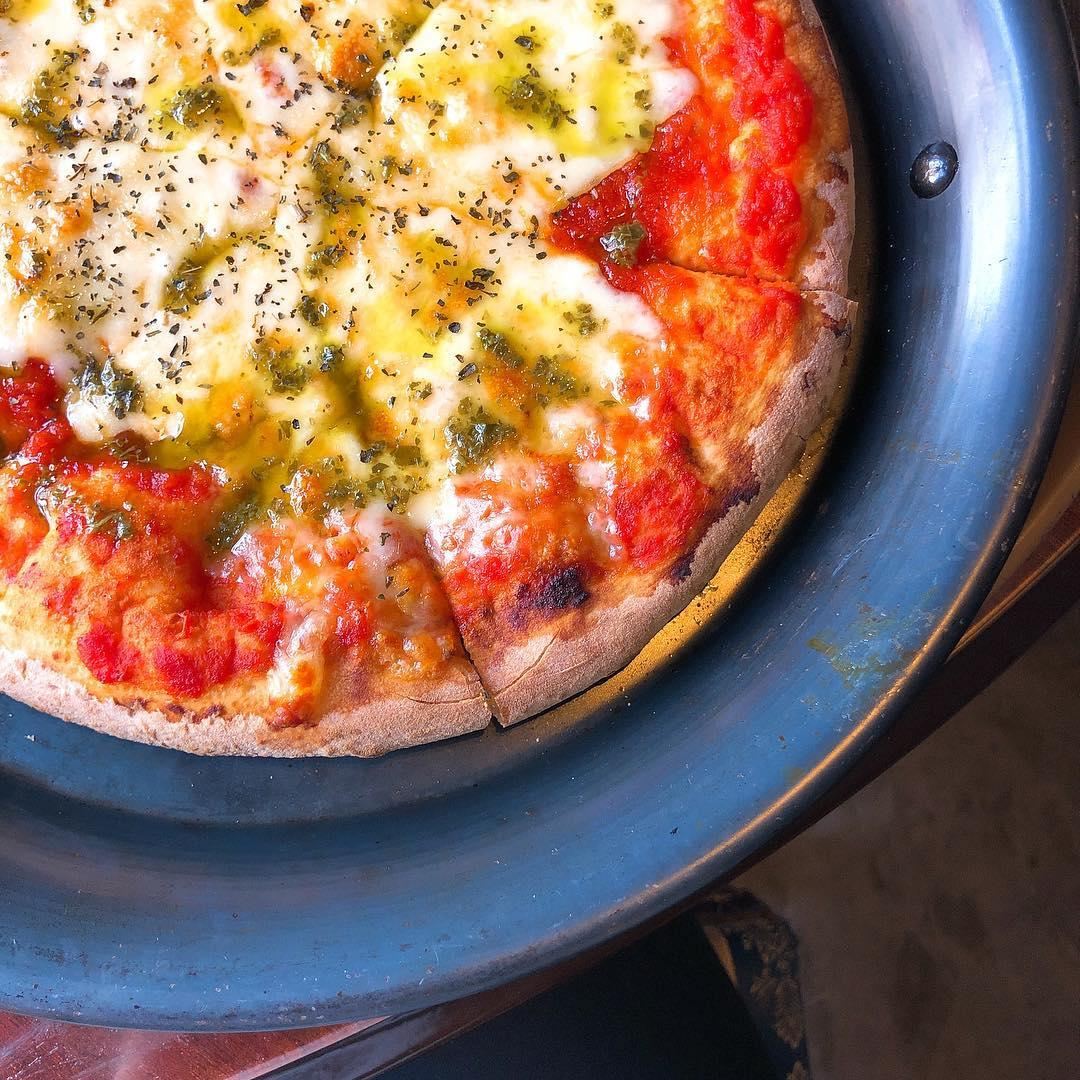Cheese: (0, 0, 546, 356)
Pizza: (0, 0, 855, 765)
